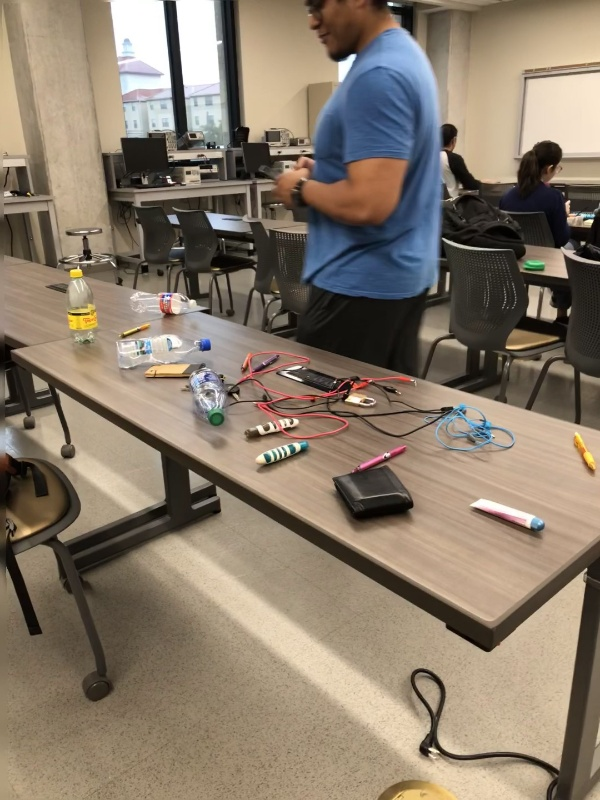bottle: (108, 334, 213, 368), (62, 267, 105, 346), (181, 366, 235, 427), (126, 289, 199, 318)
